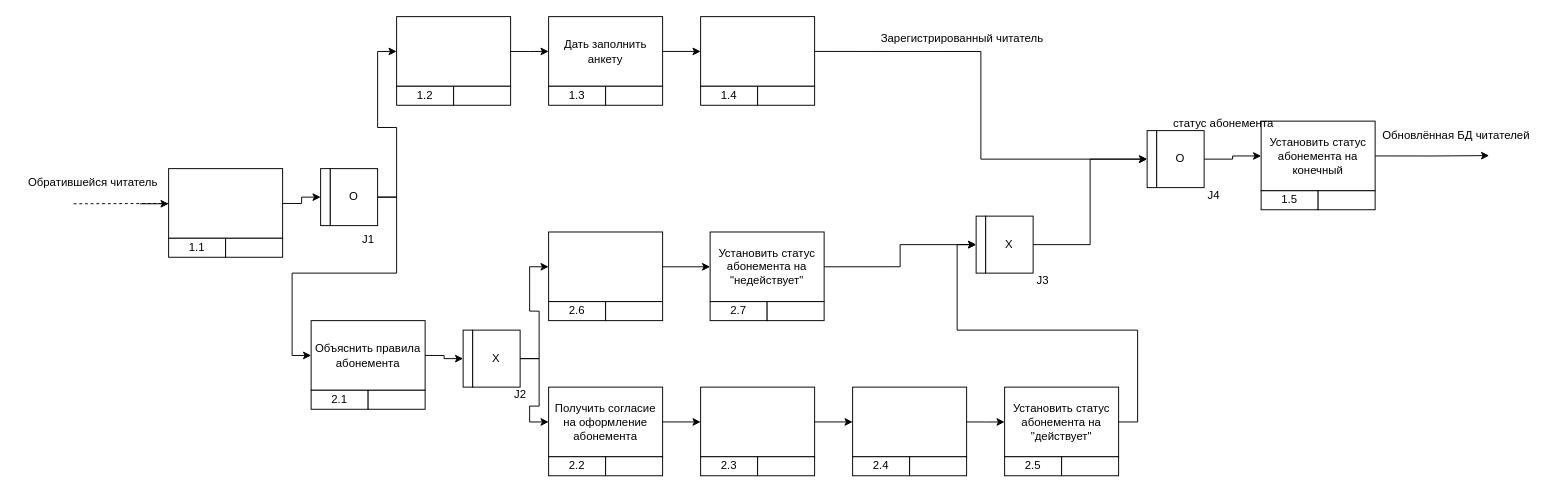
Some shapes in this 1557 by 501 pixel diagram are drawn without their labels. The shapes that lost their labels are listed below. From the top down, each one's centre as x and y in pixels, then its label:
point (453, 51): Получить согласие на обработку персональных данных
point (757, 51): Перенести данные из анкеты в БД
point (225, 203): Узнать желание обратившегося в библиотеку читателя
point (605, 266): Получить несогласие на оформление абонемента
point (757, 421): Провести привязку оплаты
point (909, 421): Получить одобрение операции от банка
